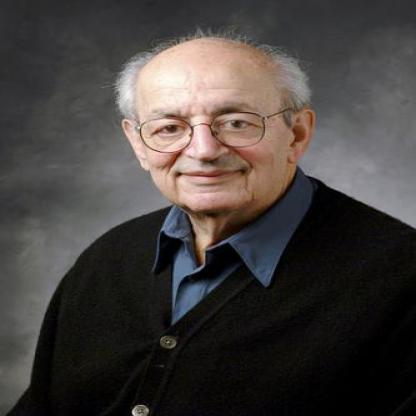face: (133, 40, 294, 217)
